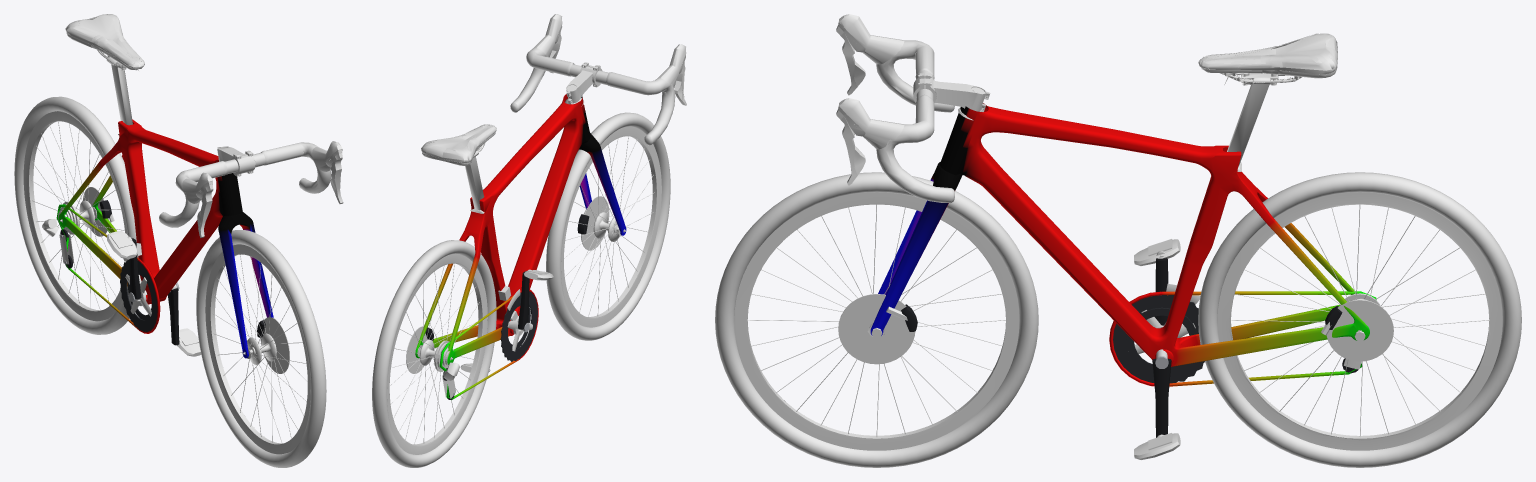
Rendered from gravel.glb.
3 renders of one model, left to right at view 1: azimuth 30°, elevation 25°; view 2: azimuth 150°, elevation 25°; view 3: azimuth 270°, elevation 25°, orthographic. The views are drawn at different scales.
Visible parts, largest first — view 1: wheel_front, frame, wheel_rear, cockpit, saddle, crankset, opt_derailleur, pedal_R, pedal_L; view 2: frame, wheel_rear, wheel_front, cockpit, saddle, crankset, opt_derailleur; view 3: wheel_front, wheel_rear, frame, cockpit, saddle, crankset, opt_brakes_disc, pedal_L.
Boxes of the visible parts, left/top/right/bottom form: wheel_front: left=196, top=230, right=326, bottom=467; frame: left=56, top=119, right=273, bottom=358; wheel_rear: left=14, top=96, right=139, bottom=334; cockpit: left=159, top=141, right=343, bottom=237; saddle: left=65, top=14, right=144, bottom=135; crankset: left=120, top=238, right=179, bottom=345; opt_derailleur: left=42, top=219, right=141, bottom=268; pedal_R: left=107, top=231, right=138, bottom=258; pedal_L: left=177, top=328, right=201, bottom=356; frame: left=415, top=94, right=626, bottom=399; wheel_rear: left=372, top=240, right=496, bottom=467; wheel_front: left=546, top=112, right=670, bottom=340; cockpit: left=510, top=14, right=686, bottom=145; saddle: left=421, top=124, right=496, bottom=213; crankset: left=500, top=271, right=537, bottom=361; opt_derailleur: left=442, top=286, right=520, bottom=399; wheel_front: left=715, top=172, right=1038, bottom=467; wheel_rear: left=1198, top=172, right=1521, bottom=467; frame: left=870, top=103, right=1376, bottom=386; cockpit: left=836, top=14, right=990, bottom=203; saddle: left=1198, top=33, right=1337, bottom=171; crankset: left=1113, top=258, right=1204, bottom=437; opt_brakes_disc: left=871, top=304, right=1365, bottom=341; pedal_L: left=1134, top=433, right=1180, bottom=459.
Bounding box in the file's own units: 0.477 × 0.9635 × 1.67.
